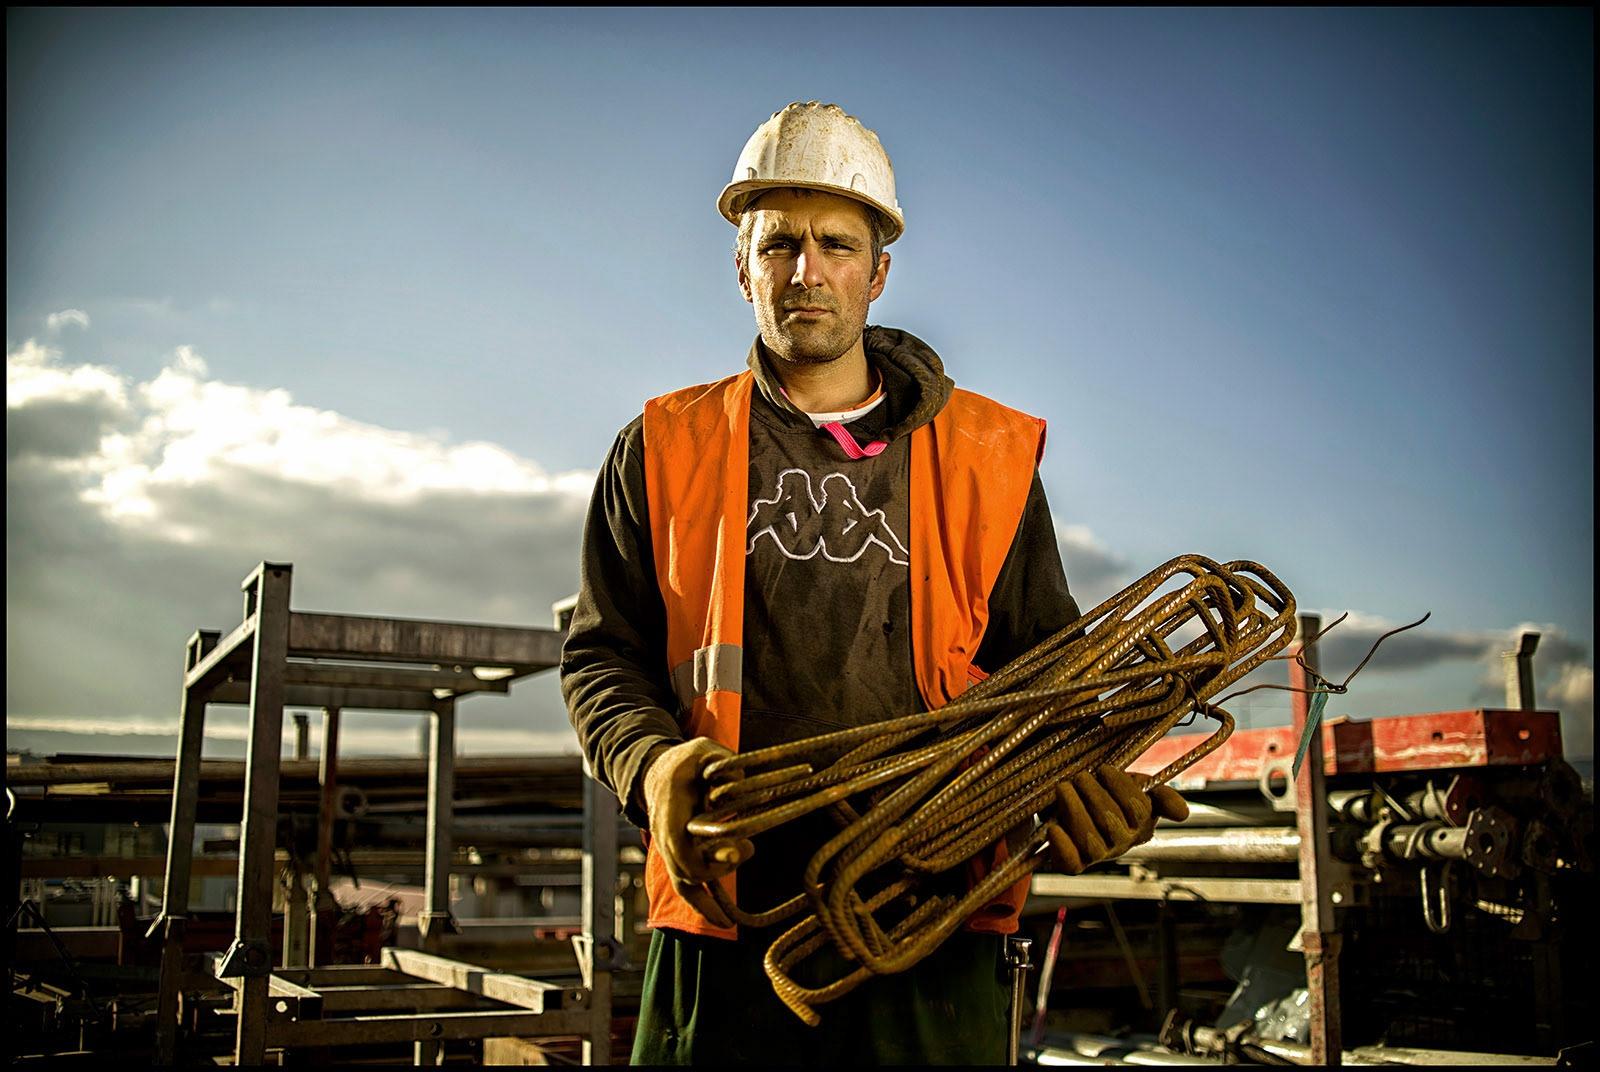white: (722, 93, 904, 360)
